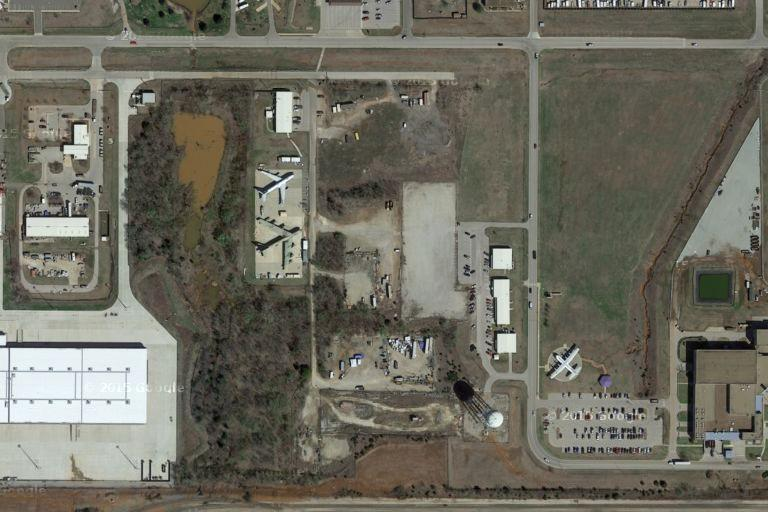B-52: (250, 215, 303, 268)
C-130: (543, 346, 585, 382)
E-8: (253, 164, 298, 209)
